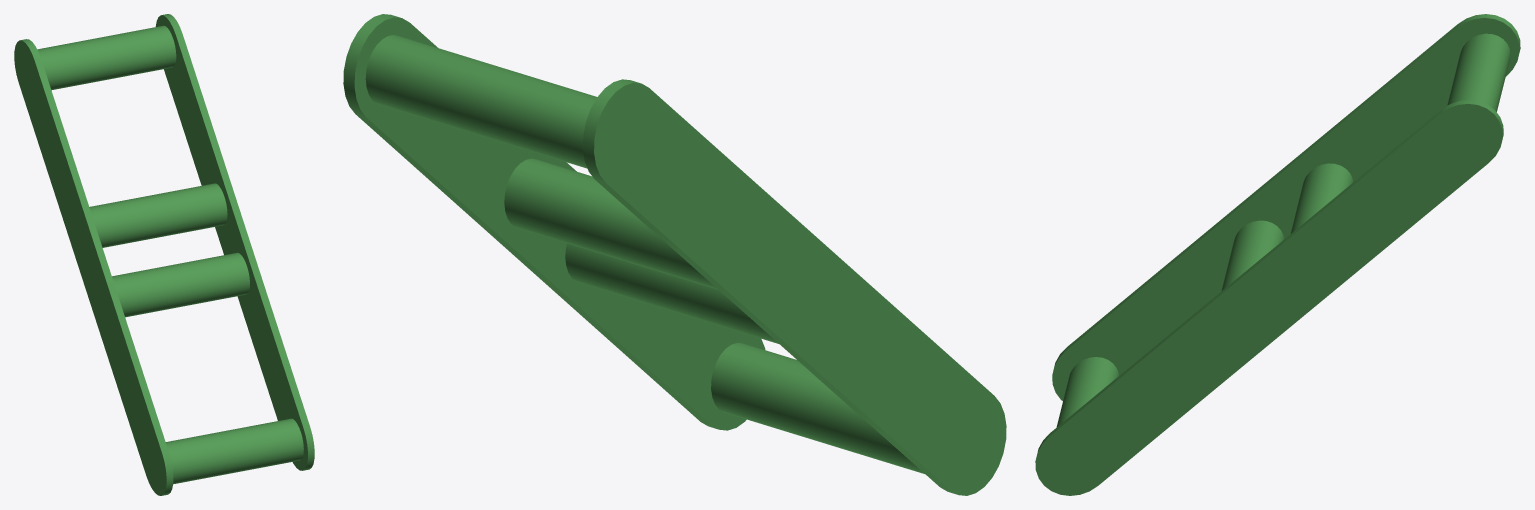
Rendered from sgmNormal1.dae.
3 views of the same model, side by side, from view 1: azimuth 30°, elevation 25°; view 2: azimuth 150°, elevation 25°; view 3: azimuth 270°, elevation 25° (orthographic). The views are drawn at different scales.
Parts seen in each view (by area): view 1: group_0 (×8); view 2: group_0 (×8); view 3: group_0 (×8).
Boxes of the visible parts, x1,y1,x2,y2 form: group_0 (×8): (14, 14, 314, 495); group_0 (×8): (343, 14, 1006, 495); group_0 (×8): (1035, 14, 1520, 495).
Size of the model in its own units: 28.96 by 55.46 by 52.15.
